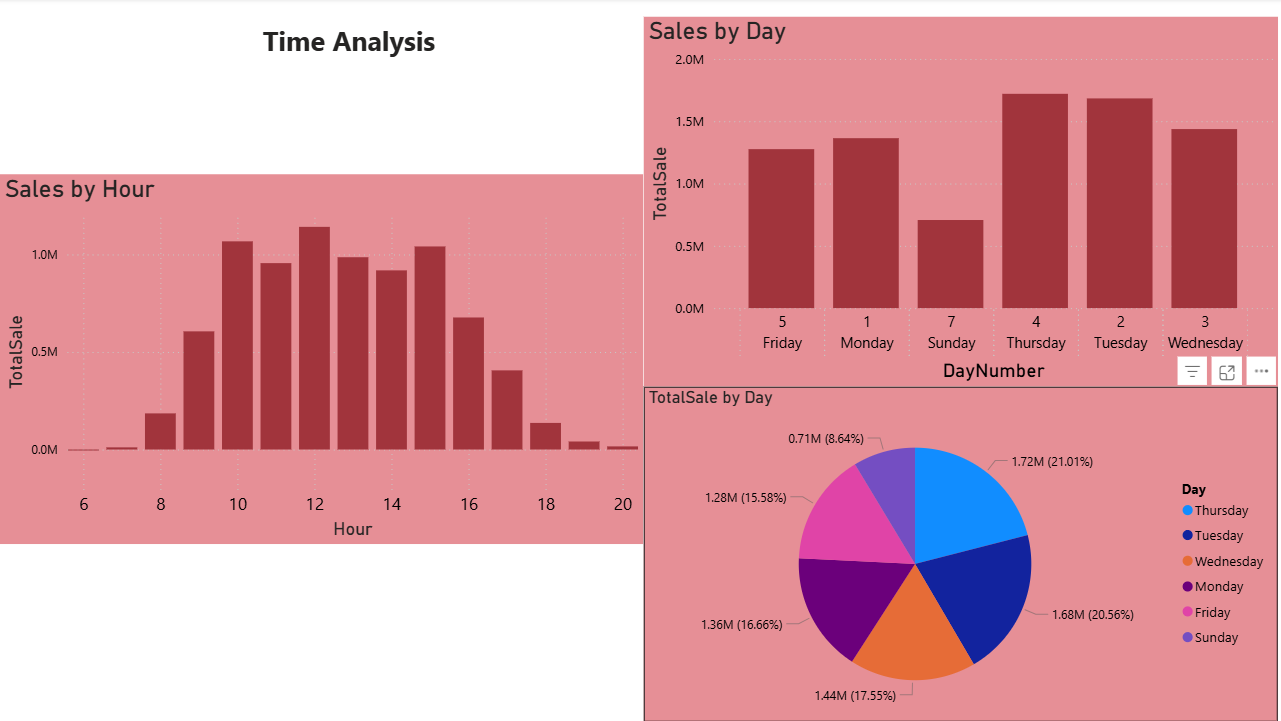

Layout of this report page (visuals, bound fields, positions):
{"tool":"powerbi","page":{"name":"Page 3","canvas":[1280,720],"ordinal":1},"visuals":[{"type":"clusteredColumnChart","title":"Sales by Hour","fields":{"Category":["OnlineRetail (2).Hour"],"Y":["OnlineRetail (2).TotalSale"]},"box":[0,175.7,640.1,367.8],"z":0},{"type":"columnChart","title":"Sales by Day","fields":{"Category":["OnlineRetail (2).Day","OnlineRetail (2).DayNumber"],"Y":["OnlineRetail (2).TotalSale"]},"box":[640.1,18.8,631.3,367.8],"z":1000},{"type":"textbox","box":[55.2,18.8,584.9,64],"z":2000},{"type":"pieChart","fields":{"Category":["OnlineRetail (2).Day"],"Y":["OnlineRetail (2).TotalSale"]},"box":[640.1,386.6,631.3,333.9],"z":3000}]}

Visuals, with their boxes in screenshot pixels (x1, y1, x2, y2), scaled from the page's 1280x720 canvas onto the 1281x721 screenshot:
"Sales by Hour" clusteredColumnChart: <region>0, 176, 641, 544</region>
"Sales by Day" columnChart: <region>641, 19, 1272, 387</region>
textbox: <region>55, 19, 641, 83</region>
pieChart - OnlineRetail (2).Day x OnlineRetail (2).TotalSale: <region>641, 387, 1272, 720</region>
